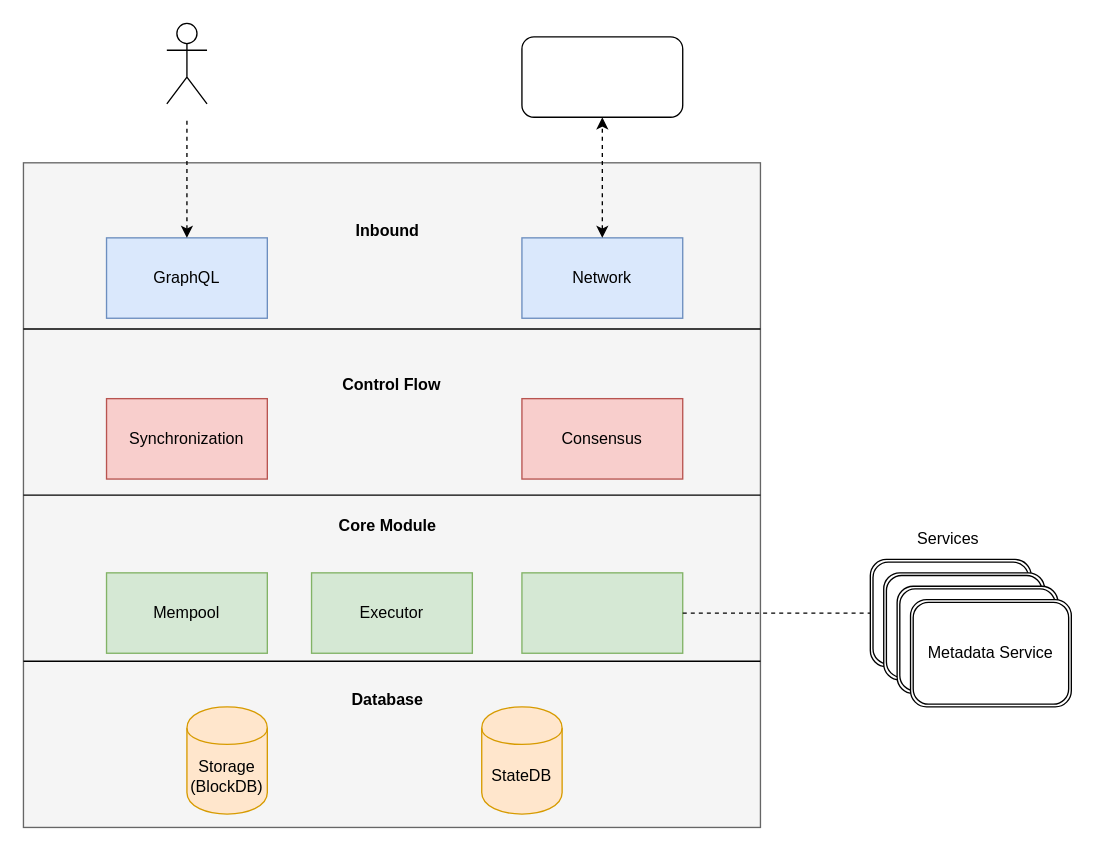
Image size: 1095x851. Some labels were removed from this diagram. The shapes that lost their labels are listed below. From the top down, each one's centre as x and y in pixels, then its label:
At (186,63): "User".
At (602,76): "Other Node".
At (602,612): "Framework".
